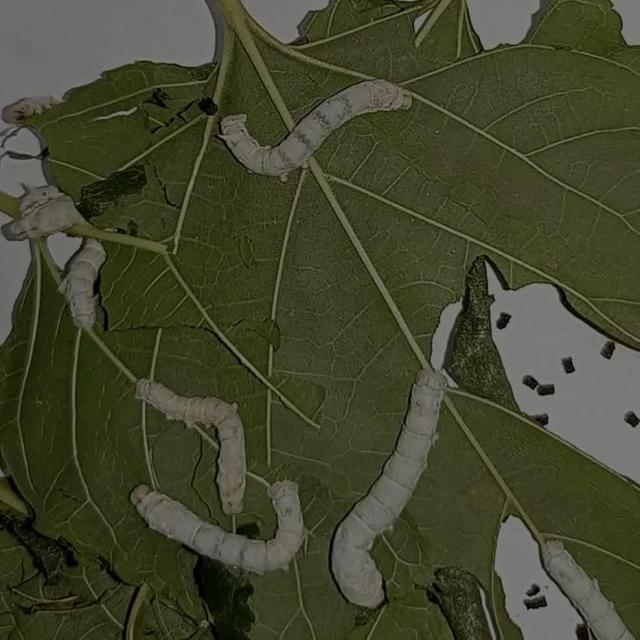Healthy: (114, 365, 456, 618), (208, 57, 442, 196)
